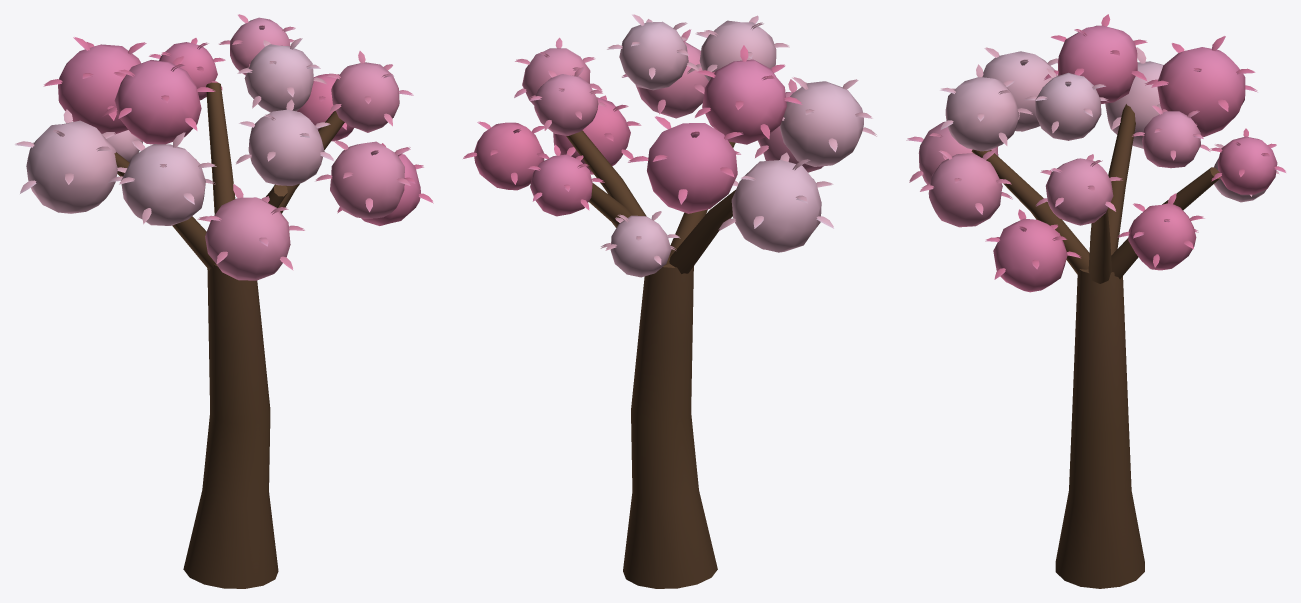
File: tree-peach-hd.glb
3 views of the same model, side by side, from view 1: azimuth 30°, elevation 25°; view 2: azimuth 150°, elevation 25°; view 3: azimuth 270°, elevation 25° (orthographic). The views are drawn at different scales.
Visible parts, largest first — view 1: tree-peach-hd; view 2: tree-peach-hd; view 3: tree-peach-hd.
Part boxes in pixels (left/top/right/bottom): tree-peach-hd: left=15, top=14, right=433, bottom=588; tree-peach-hd: left=463, top=14, right=876, bottom=588; tree-peach-hd: left=906, top=14, right=1285, bottom=588.
Bounding box in the file's own units: 1.9 × 2.73 × 1.84.
